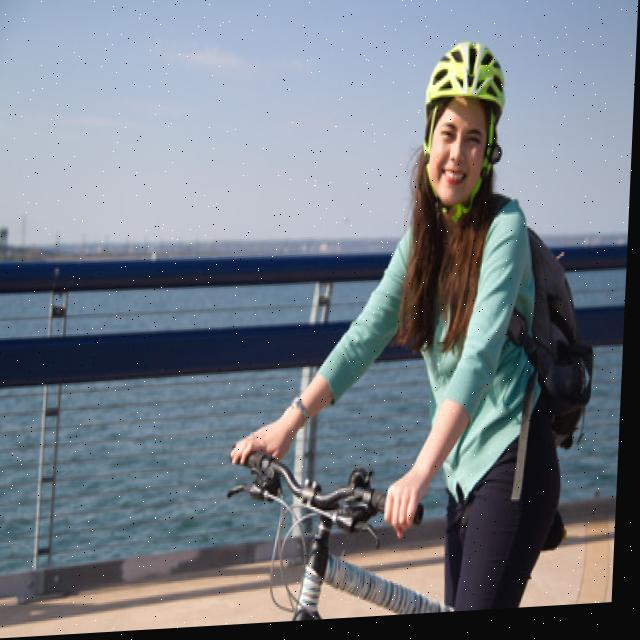Helmet: (417, 44, 515, 217)
